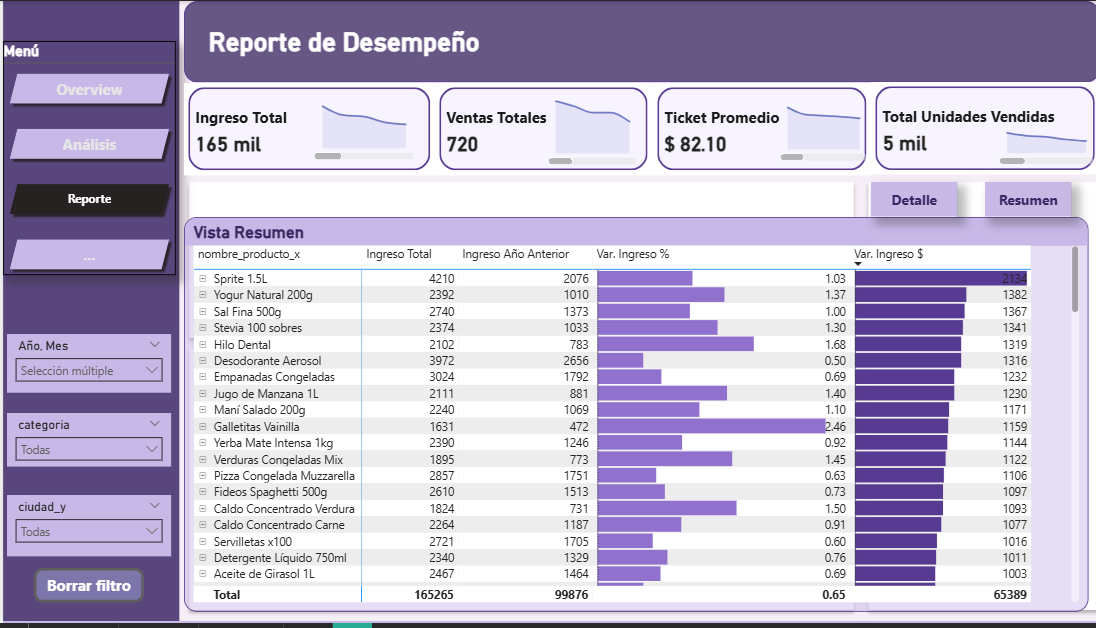

What the dashboard file says about the page in this screenshot:
{"tool":"powerbi","page":{"name":"Reporte","canvas":[1280,720],"ordinal":2},"visuals":[{"type":"slicer","fields":{"Values":["DimCalendario.Año","DimCalendario.Mes"]},"box":[5.1,386,190.2,68.1],"z":0},{"type":"slicer","fields":{"Values":["DimProducto.categoria"]},"box":[5.1,477.2,190.2,61.7],"z":1000},{"type":"slicer","fields":{"Values":["DimSucursal.ciudad_y"]},"box":[5.1,572.3,190.2,70.7],"z":2000},{"type":"pageNavigator","title":"  Menú","box":[0,46.3,200.5,271.2],"z":3000},{"type":"actionButton","box":[36,656.7,127.2,39.8],"z":4000},{"type":"shape","title":"sddsd","box":[210,0,1060,94.3],"z":5000},{"type":"cardVisual","fields":{"Data":["Medidas.Ingreso Total"]},"box":[209.6,94.9,290.4,106.6],"z":6000},{"type":"cardVisual","fields":{"Data":["Medidas.Total Órdenes"]},"box":[500.1,94.9,251.8,106.6],"z":7000},{"type":"cardVisual","fields":{"Data":["Medidas.Ticket Promedio"]},"box":[751.8,94.9,253,106.6],"z":8000},{"type":"lineChart","fields":{"Y":["Medidas.Ingreso Total"],"Category":["DimCalendario.MesAño"]},"box":[354.8,104.2,125.3,84.3],"z":9000},{"type":"lineChart","fields":{"Y":["Medidas.Ventas Totales"],"Category":["DimCalendario.MesAño"]},"box":[626.5,101.9,112.4,92.5],"z":10000},{"type":"lineChart","fields":{"Y":["Medidas.Ticket Promedio"],"Category":["DimCalendario.MesAño"]},"box":[894.7,97.2,110.1,92.5],"z":11000},{"type":"tableEx","title":"Vista Detalle","fields":{"Values":["DimCalendario.DiaMesAño","DimCliente.nombre_cliente_x","DimProducto.nombre_producto_x","Sum(FacVentas.cantidad)","Sum(FacVentas.precio_unitario_x)","Sum(FacVentas.descuento_aplicado_pct)","Sum(FacVentas.monto_final)"]},"box":[210,250,1058.6,457.1],"z":13000},{"type":"actionButton","box":[1004.3,210,100,40],"z":14000},{"type":"actionButton","box":[1137.1,210,100,40],"z":15000},{"type":"cardVisual","fields":{"Data":["Medidas.Total Unidades Vendidas"]},"box":[1004.3,94.3,264.3,107.1],"z":16000},{"type":"lineChart","fields":{"Y":["Medidas.Total Unidades Vendidas"],"Category":["DimCalendario.MesAño"]},"box":[1148.8,131.2,119.5,63.2],"z":17000}]}

Visuals, with their boxes on the page's 1280x720 design canvas (x1, y1, x2, y2). These are canvas units, not pixel positions in the 1096x628 screenshot, which may show the page scaled, cropped or inside an application window:
slicer - DimCalendario.Año x DimCalendario.Mes: [x1=5, y1=386, x2=195, y2=454]
slicer - DimProducto.categoria: [x1=5, y1=477, x2=195, y2=539]
slicer - DimSucursal.ciudad_y: [x1=5, y1=572, x2=195, y2=643]
"  Menú" pageNavigator: [x1=0, y1=46, x2=200, y2=318]
actionButton: [x1=36, y1=657, x2=163, y2=696]
"sddsd" shape: [x1=210, y1=0, x2=1270, y2=94]
cardVisual - Medidas.Ingreso Total: [x1=210, y1=95, x2=500, y2=202]
cardVisual - Medidas.Total Órdenes: [x1=500, y1=95, x2=752, y2=202]
cardVisual - Medidas.Ticket Promedio: [x1=752, y1=95, x2=1005, y2=202]
lineChart - Medidas.Ingreso Total x DimCalendario.MesAño: [x1=355, y1=104, x2=480, y2=188]
lineChart - Medidas.Ventas Totales x DimCalendario.MesAño: [x1=626, y1=102, x2=739, y2=194]
lineChart - Medidas.Ticket Promedio x DimCalendario.MesAño: [x1=895, y1=97, x2=1005, y2=190]
"Vista Detalle" tableEx: [x1=210, y1=250, x2=1269, y2=707]
actionButton: [x1=1004, y1=210, x2=1104, y2=250]
actionButton: [x1=1137, y1=210, x2=1237, y2=250]
cardVisual - Medidas.Total Unidades Vendidas: [x1=1004, y1=94, x2=1269, y2=201]
lineChart - Medidas.Total Unidades Vendidas x DimCalendario.MesAño: [x1=1149, y1=131, x2=1268, y2=194]
